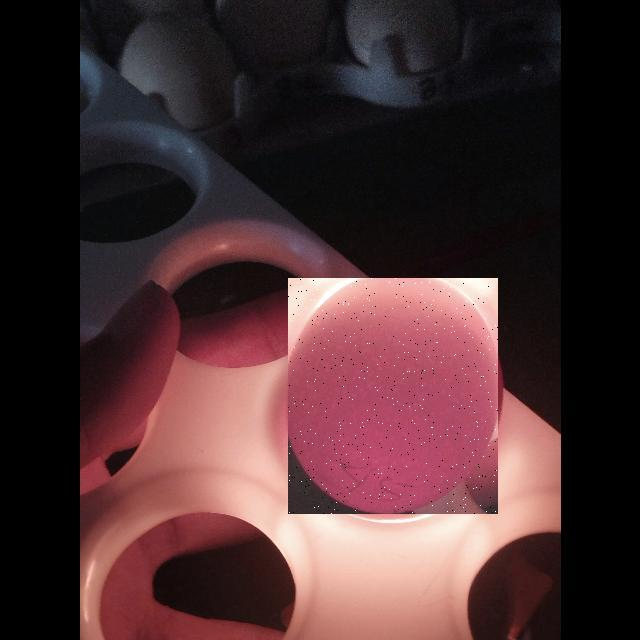Fertile: (288, 278, 498, 514)
